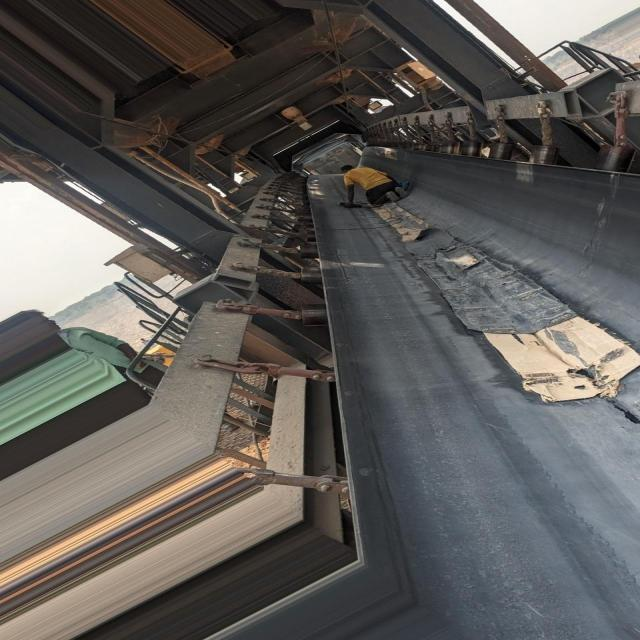Human: (340, 164, 411, 207)
Roller: (419, 140, 636, 171), (294, 201, 329, 325)
Tear: (622, 411, 638, 424)
patch work: (406, 228, 640, 402)
